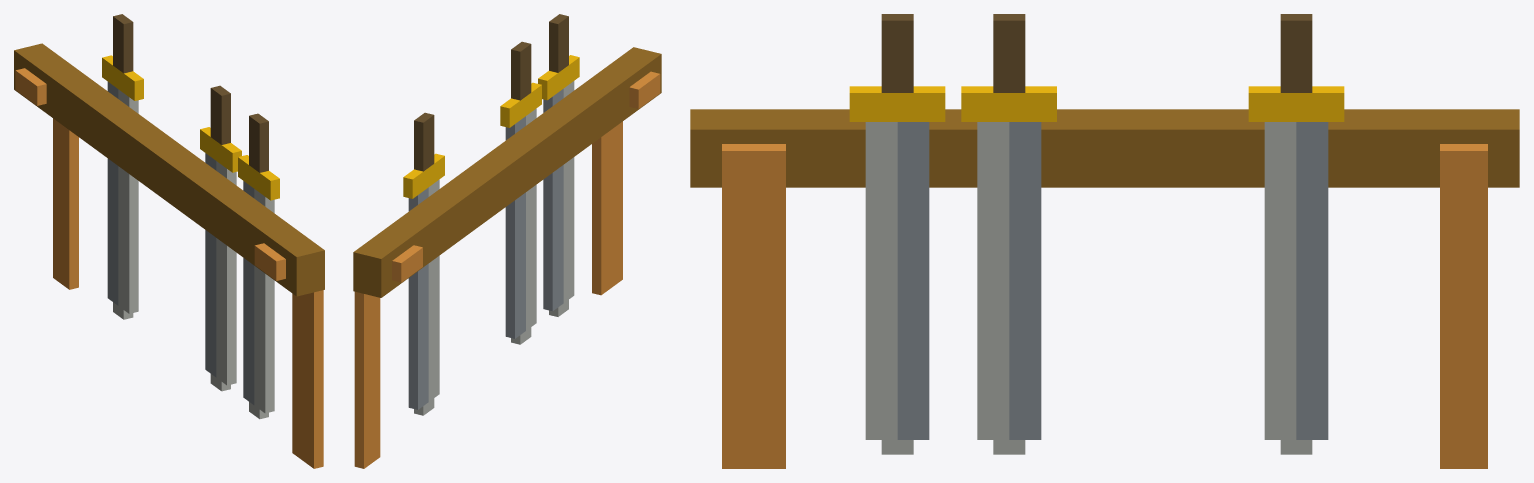
The model's file is sword_rack.obj.
3 renders of one model, left to right at view 1: azimuth 30°, elevation 25°; view 2: azimuth 150°, elevation 25°; view 3: azimuth 270°, elevation 25°, orthographic. The views are drawn at different scales.
Size of the model in its own units: 0.5 by 3.1 by 5.2.
Materials: 1 (1 with a texture image).
